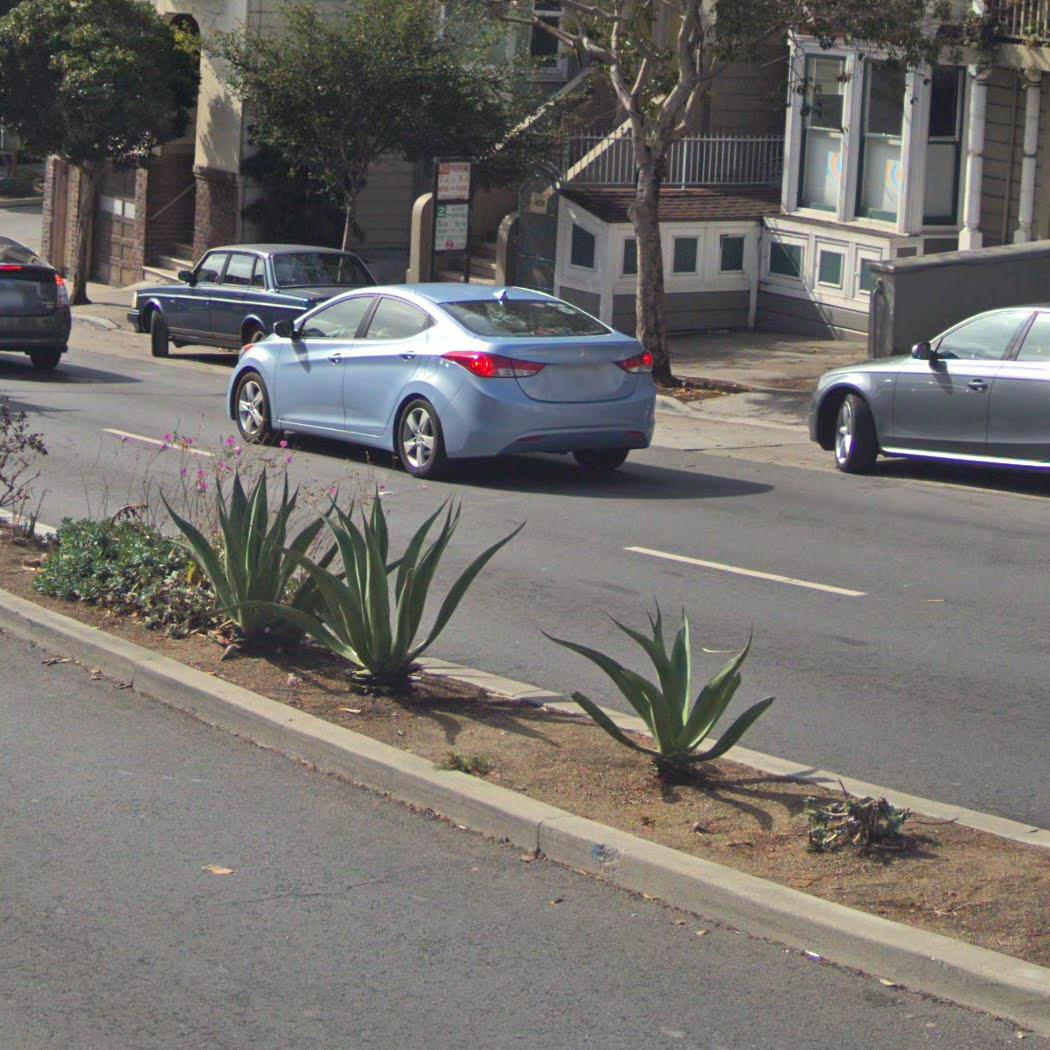2 Hour Parking: (433, 202, 471, 252)
No Parking: (436, 158, 473, 201)
